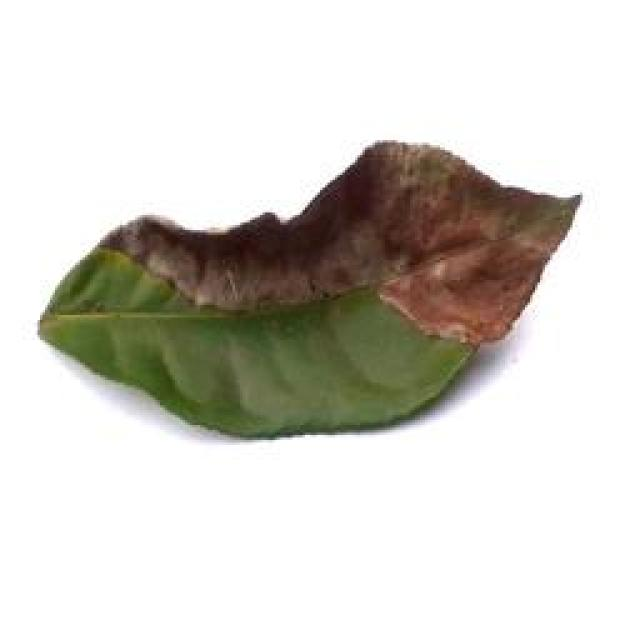Brown Blight: (31, 120, 578, 444)
